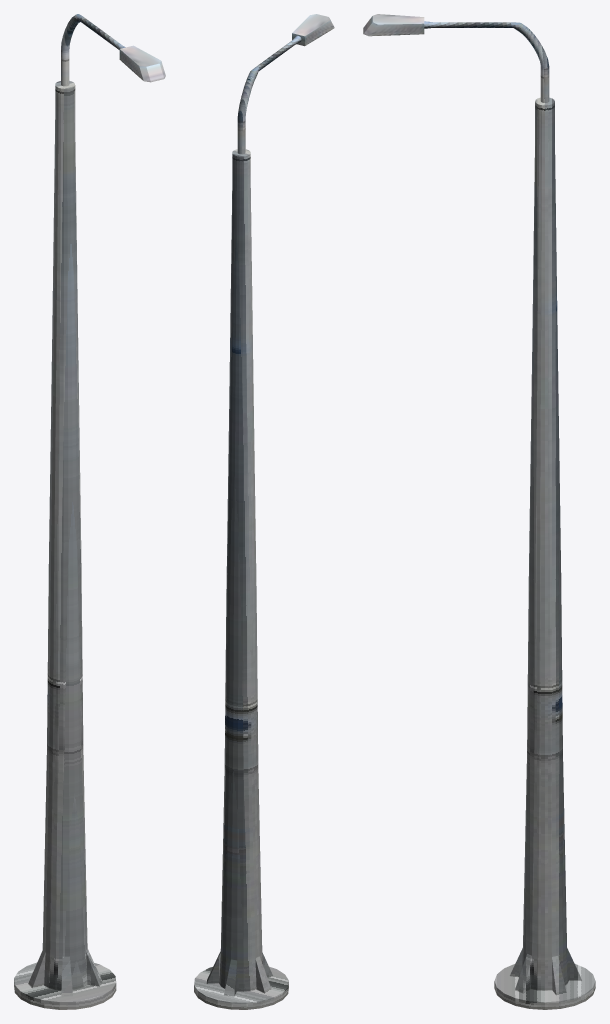
Rendered from stolb.glb.
3 views of the same model, side by side, from view 1: azimuth 30°, elevation 25°; view 2: azimuth 150°, elevation 25°; view 3: azimuth 270°, elevation 25° (orthographic). The views are drawn at different scales.
Parts seen in each view (by area): view 1: Circle, Cube; view 2: Circle, Cube; view 3: Circle, Cube.
Boxes of the visible parts, x1=… form: Circle: x1=14, y1=14, x2=125, y2=1009; Cube: x1=119, y1=45, x2=165, y2=82; Circle: x1=194, y1=36, x2=301, y2=1009; Cube: x1=292, y1=14, x2=334, y2=46; Circle: x1=424, y1=21, x2=595, y2=1009; Cube: x1=363, y1=14, x2=424, y2=36.
Bounding box in the file's own units: 2 × 21.17 × 4.59.
2 materials, 2 textured.
